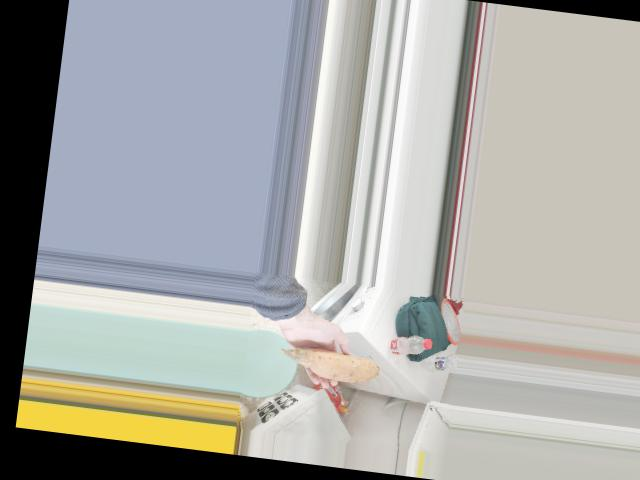sweet_potato: (284, 343, 373, 379)
